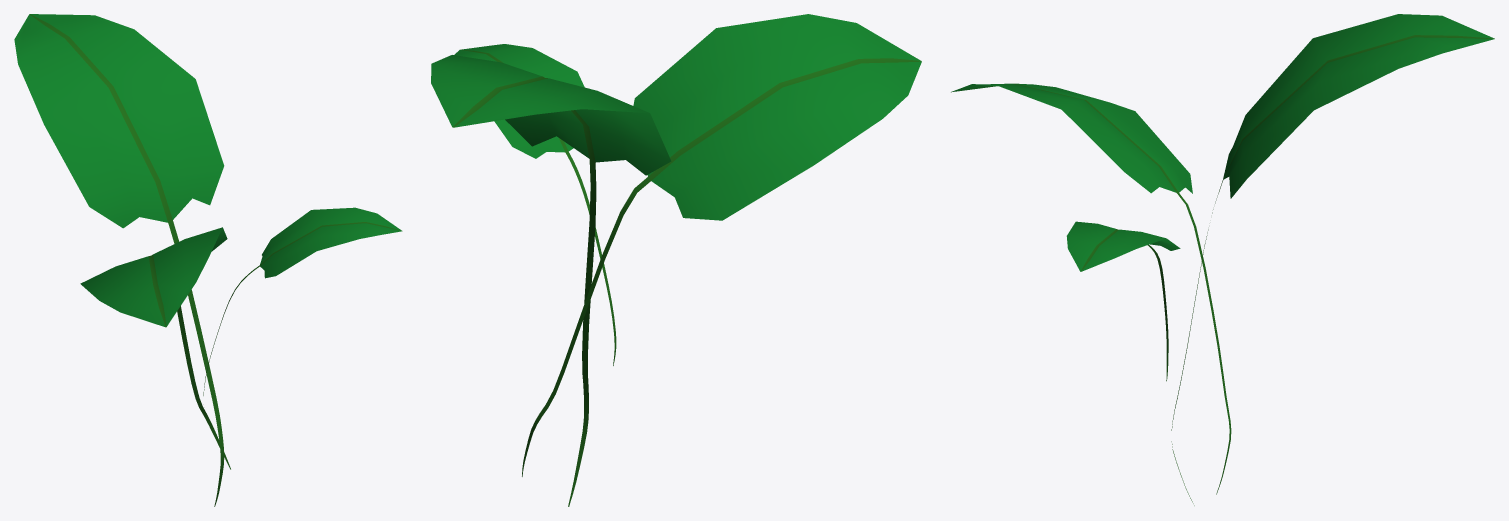
The model's file is SM_Medium_Plant_B.fbx.
The picture shows the model from 3 angles, left to right: view 1: azimuth 30°, elevation 25°; view 2: azimuth 150°, elevation 25°; view 3: azimuth 270°, elevation 25°; orthographic projection. The views are drawn at different scales.
Visible parts, largest first — view 1: SM_Medium_Plant_B.001; view 2: SM_Medium_Plant_B.001; view 3: SM_Medium_Plant_B.001.
Part boxes in pixels (x1,y1,x2,y2): SM_Medium_Plant_B.001: (14,14,402,506); SM_Medium_Plant_B.001: (431,14,921,506); SM_Medium_Plant_B.001: (951,14,1494,505).
Bounding box in the file's own units: 63.24 × 86.65 × 78.88.
